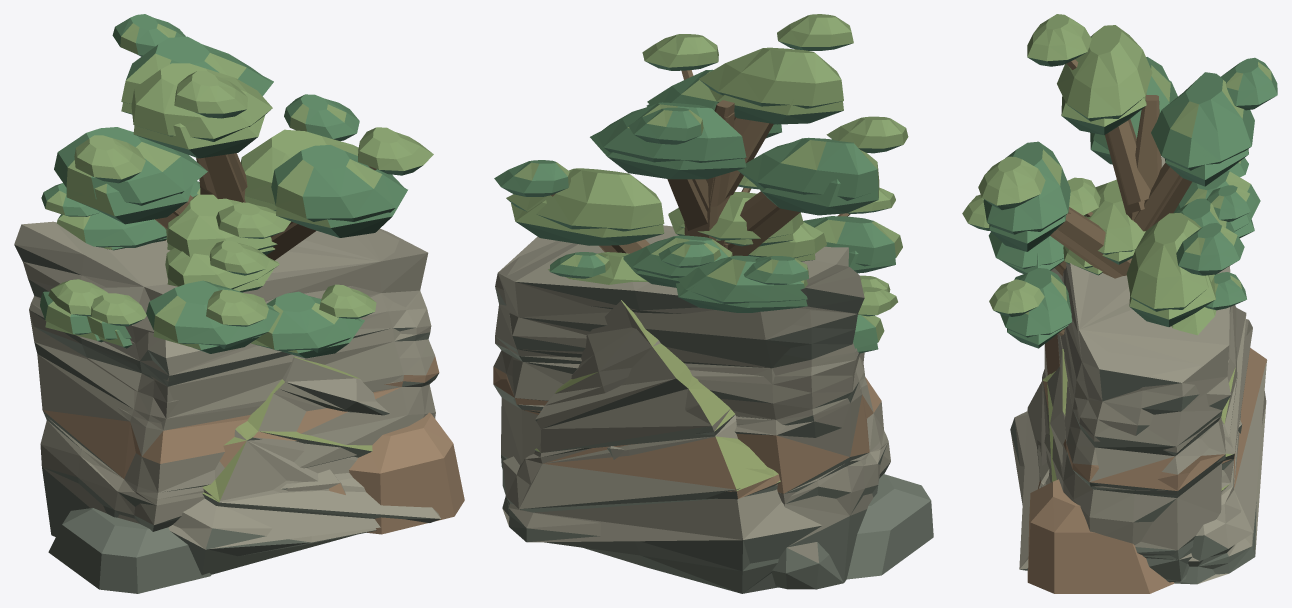
The model's file is Nature.fbx.
3 views of the same model, side by side, from view 1: azimuth 30°, elevation 25°; view 2: azimuth 150°, elevation 25°; view 3: azimuth 270°, elevation 25° (orthographic). The views are drawn at different scales.
Parts seen in each view (by area): view 1: TreeSentinel_Mount, RockCliff_Mount, RockCliff_LOD1_Mount, RockOutcrop_Mount, TreeWindward_Mount, RockOutcrop_LOD1_Mount, TreeRidge_Mount, TreeSentinel_LOD1_Mount, TreeRidge_LOD1_Mount, TreeWindward_LOD1_Mount, RockPhase_Mount; view 2: TreeSentinel_Mount, RockOutcrop_LOD1_Mount, RockCliff_Mount, RockCliff_LOD1_Mount, RockOutcrop_Mount, TreeSentinel_LOD1_Mount, TreeWindward_Mount, TreeRidge_Mount, TreeWindward_LOD1_Mount, TreeRidge_LOD1_Mount; view 3: TreeSentinel_Mount, RockCliff_LOD1_Mount, RockCliff_Mount, RockOutcrop_Mount, RockOutcrop_LOD1_Mount, TreeRidge_Mount, TreeWindward_Mount, TreeSentinel_LOD1_Mount, TreeWindward_LOD1_Mount, TreeRidge_LOD1_Mount.
Part boxes in pixels (x1,y1,x2,y2): TreeSentinel_Mount: [54, 14, 433, 237]; RockCliff_Mount: [14, 221, 439, 536]; RockCliff_LOD1_Mount: [22, 224, 428, 535]; RockOutcrop_Mount: [48, 356, 464, 593]; TreeWindward_Mount: [40, 183, 290, 348]; RockOutcrop_LOD1_Mount: [168, 379, 440, 574]; TreeRidge_Mount: [87, 181, 376, 352]; TreeSentinel_LOD1_Mount: [66, 76, 407, 260]; TreeRidge_LOD1_Mount: [98, 261, 364, 358]; TreeWindward_LOD1_Mount: [45, 237, 274, 353]; RockPhase_Mount: [281, 469, 345, 494]; TreeSentinel_Mount: [494, 14, 908, 253]; RockOutcrop_LOD1_Mount: [502, 305, 822, 593]; RockCliff_Mount: [493, 241, 890, 589]; RockCliff_LOD1_Mount: [493, 225, 888, 582]; RockOutcrop_Mount: [502, 300, 933, 593]; TreeSentinel_LOD1_Mount: [511, 88, 879, 255]; TreeWindward_Mount: [668, 176, 902, 348]; TreeRidge_Mount: [548, 222, 890, 292]; TreeWindward_LOD1_Mount: [668, 214, 895, 353]; TreeRidge_LOD1_Mount: [573, 250, 815, 287]; TreeSentinel_Mount: [978, 14, 1277, 311]; RockCliff_LOD1_Mount: [1057, 263, 1229, 581]; RockCliff_Mount: [1042, 156, 1230, 582]; RockOutcrop_Mount: [1010, 305, 1267, 593]; RockOutcrop_LOD1_Mount: [1011, 305, 1266, 584]; TreeRidge_Mount: [989, 185, 1255, 337]; TreeWindward_Mount: [962, 158, 1260, 270]; TreeSentinel_LOD1_Mount: [989, 80, 1248, 326]; TreeWindward_LOD1_Mount: [1002, 214, 1254, 276]; TreeRidge_LOD1_Mount: [1007, 246, 1215, 348].
Bounding box in the file's own units: 5.81 × 7.21 × 4.51.
